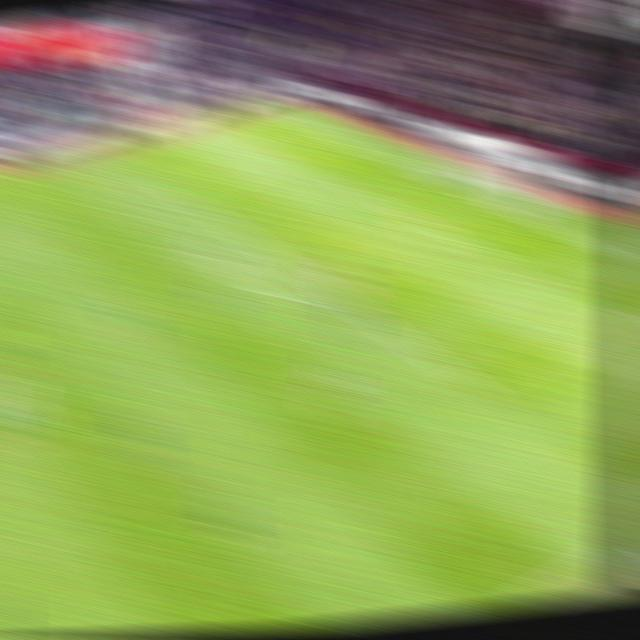bigarea_bottom_inner: (449, 367, 494, 397)
bigarea_top_inner: (150, 175, 191, 199)
bigarea_top_outter: (317, 128, 355, 150)
bottom_arc_area_intersection: (323, 288, 363, 313)
corner: (242, 100, 283, 119)
smallarea_bottom_inner: (478, 243, 520, 271)
smallarea_bottom_outter: (542, 220, 582, 245)
smallarea_top_inner: (332, 175, 371, 198)
smallarea_top_outter: (385, 156, 426, 179)
top_arc_area_intersection: (218, 220, 258, 242)
